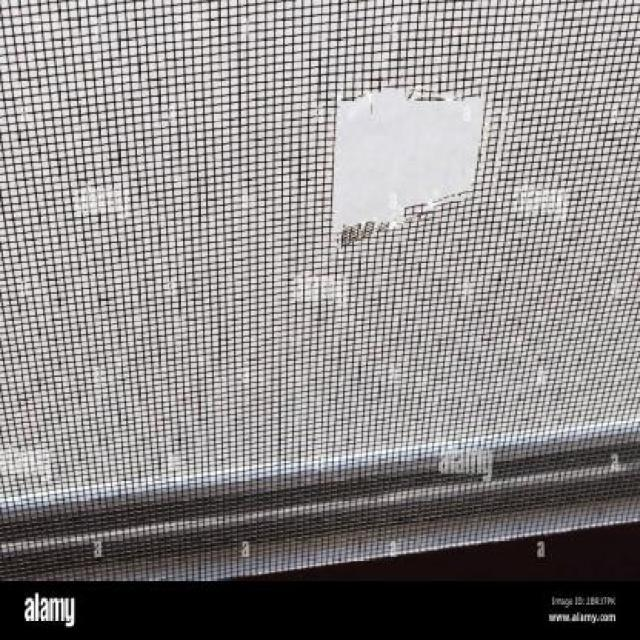fence line: (323, 81, 506, 254)
